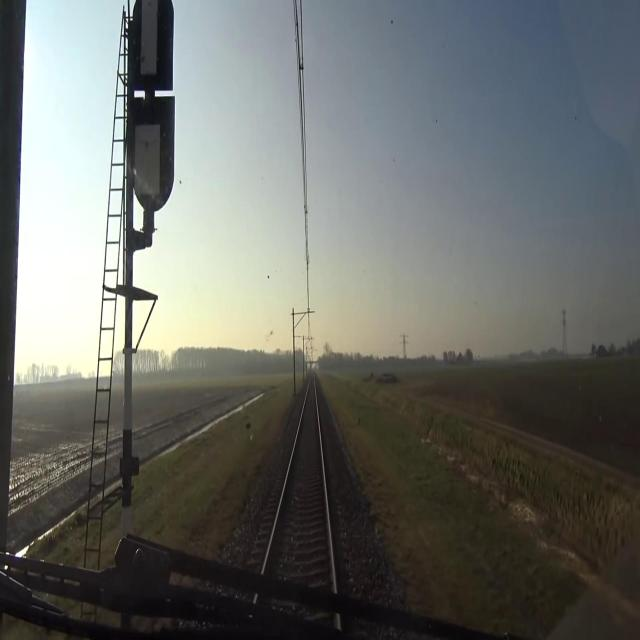rail-track: (264, 379, 334, 596)
